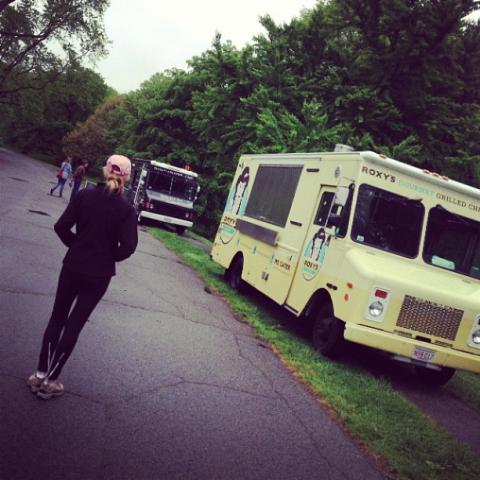truck: (214, 145, 480, 377), (132, 160, 199, 235)
